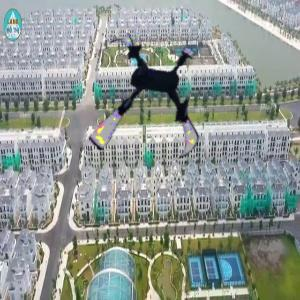drone: (81, 36, 216, 171)
